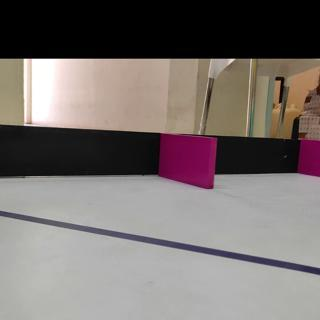xparking: (159, 134, 214, 183), (301, 141, 320, 171)
